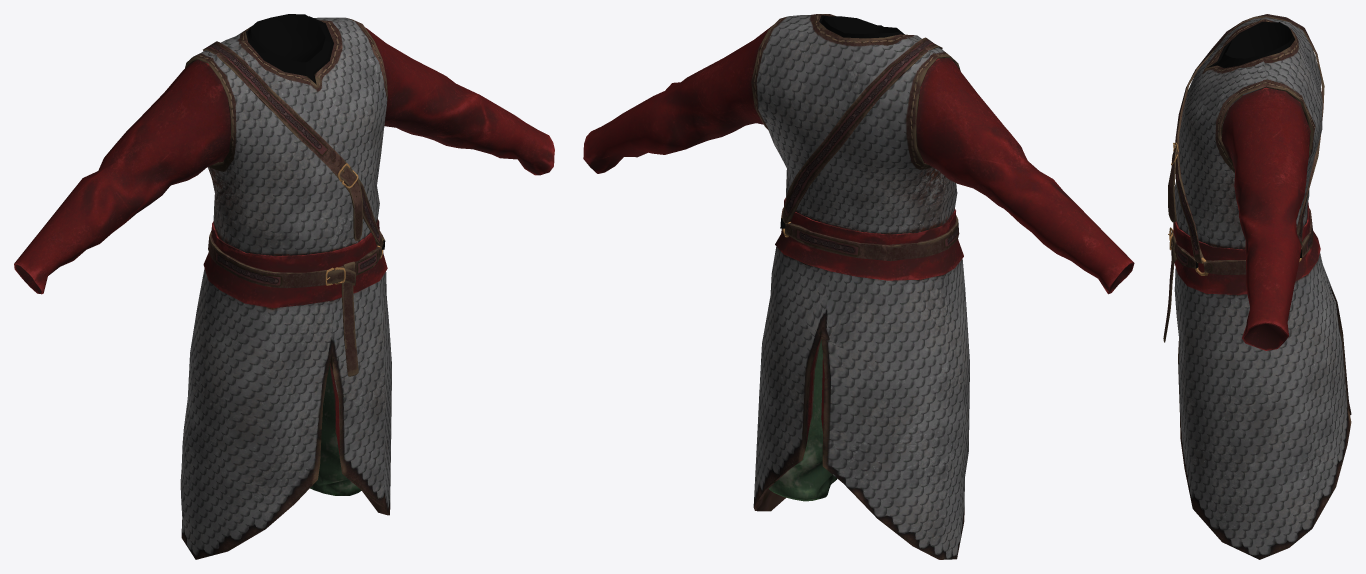
Rendered from cts_rohan_royal_guard_armor.fbx.
3 renders of one model, left to right at view 1: azimuth 30°, elevation 25°; view 2: azimuth 150°, elevation 25°; view 3: azimuth 270°, elevation 25°, orthographic. The views are drawn at different scales.
Visible parts, largest first — view 1: cts_rohan_royal_guard_armor; view 2: cts_rohan_royal_guard_armor; view 3: cts_rohan_royal_guard_armor.
Part boxes in pixels (bbox=[...]): cts_rohan_royal_guard_armor: bbox=[14, 14, 554, 559]; cts_rohan_royal_guard_armor: bbox=[583, 14, 1134, 559]; cts_rohan_royal_guard_armor: bbox=[1163, 14, 1351, 559].
Bounding box in the file's own units: 1.38 × 0.4447 × 1.26.
Materials: 1 (1 with a texture image).
